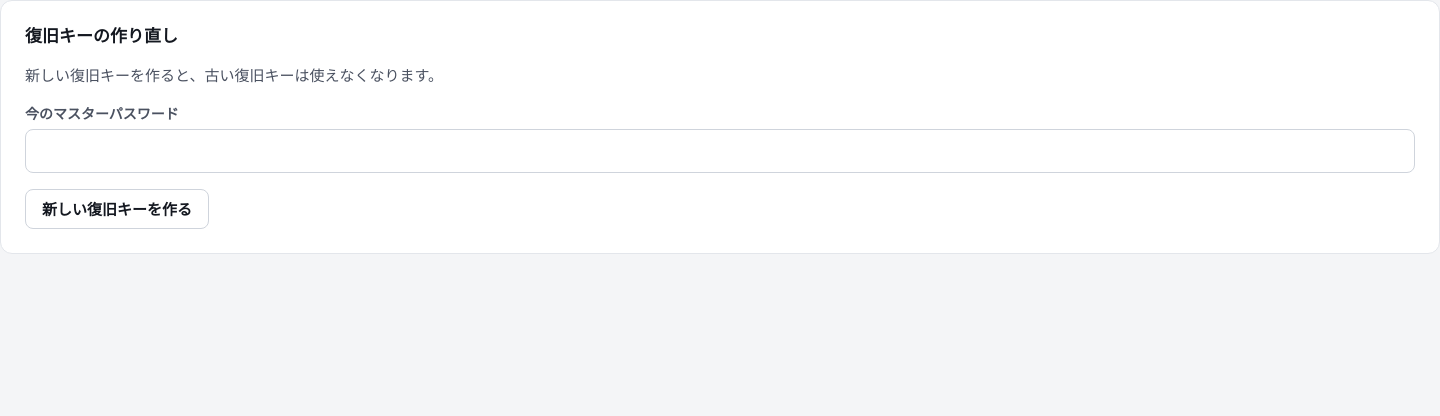
復旧キーの作り直し › 最後の 4 文字が合うまで置き換えず、合えば作り直す
Type "current-pw" into the password field labelled "今のマスターパスワード". click: (720, 152)
box: [25,130,1415,174]
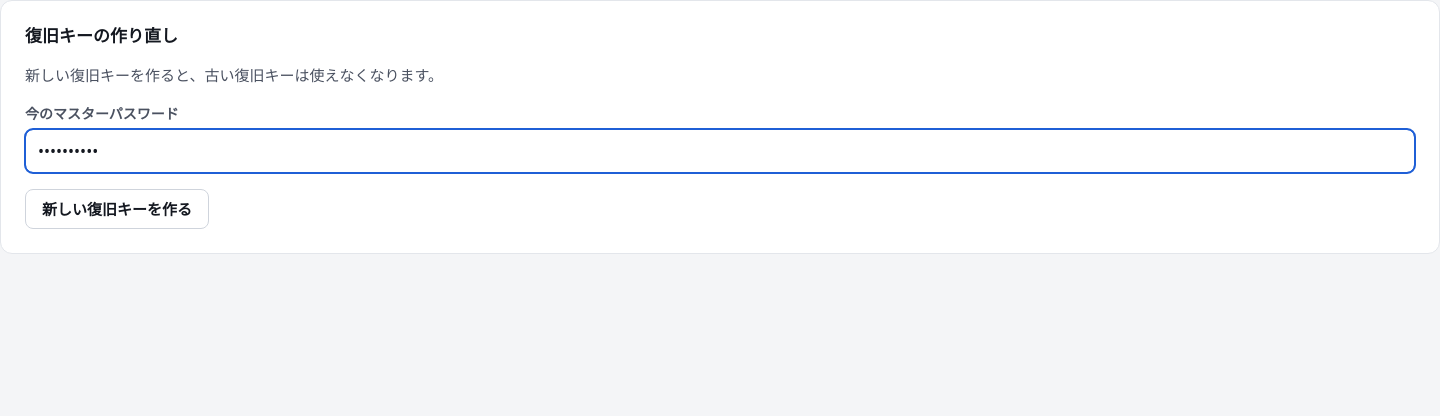
Click the button "新しい復旧キーを作る". click: click(117, 210)
box: [25,190,209,230]
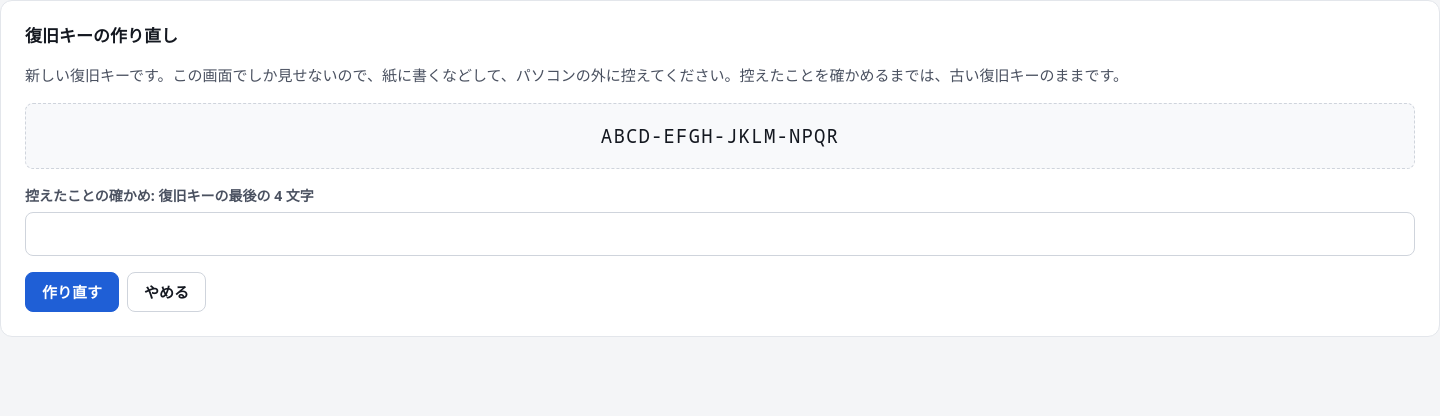
Expected: the text "ABCD-EFGH-JKLM-NPQR" is shown, [25,103,1415,169]
Type "XXXX" into the field labelled "控えたことの確かめ: 復旧キーの最後の 4 文字". click: (720, 234)
box: [25,212,1415,256]
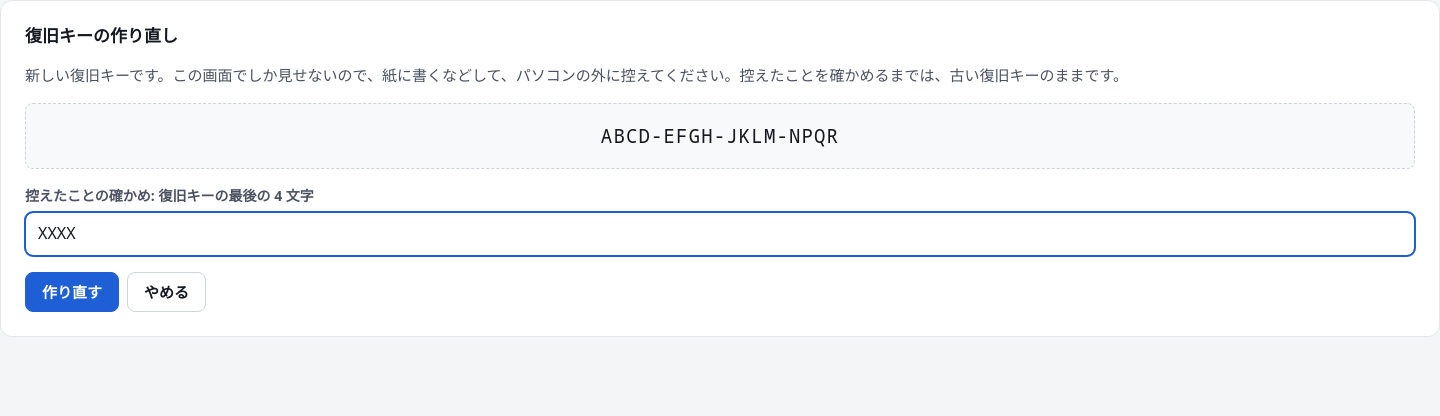
Click the button "作り直す". click: click(72, 292)
box: [25,272,119,312]
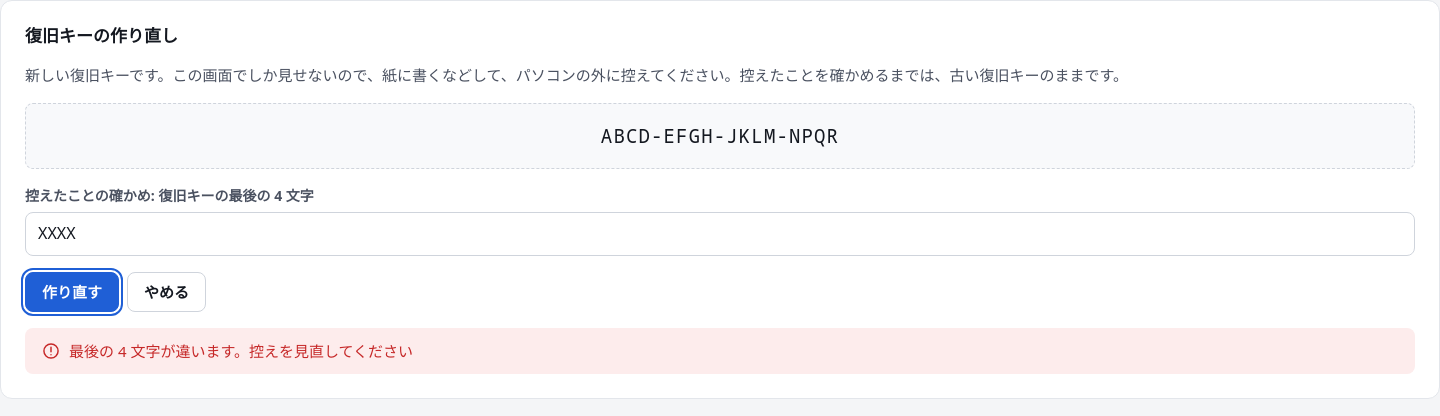
Expected: the message shows "最後の 4 文字が違います", [69,341,413,361]
Replace the text in the field labelled "控えたことの確かめ: 復旧キーの最後の 4 文字" with "npqr". click: (720, 234)
box: [25,212,1415,256]
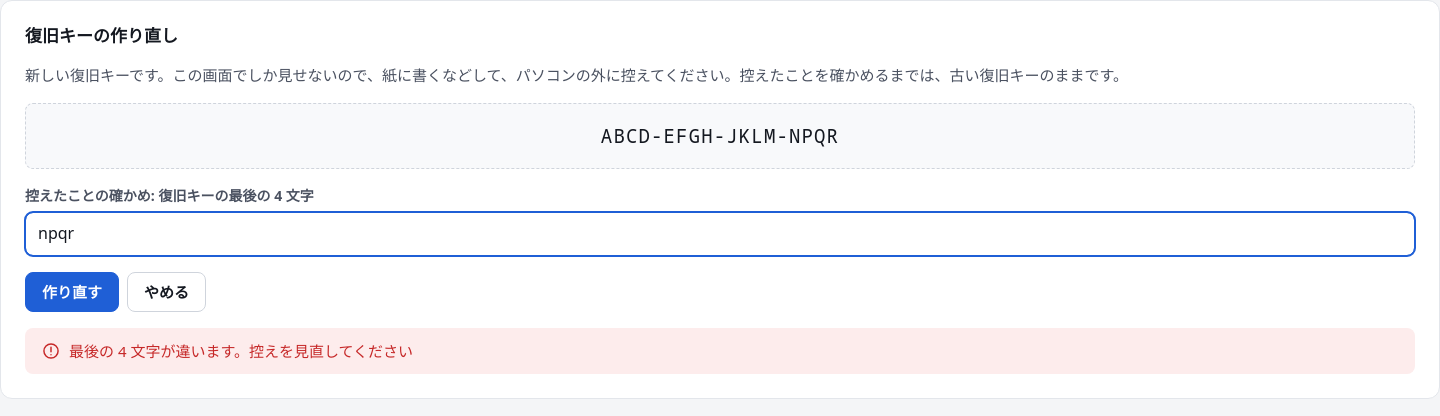
Click the button "作り直す". click: click(72, 292)
box: [25,272,119,312]
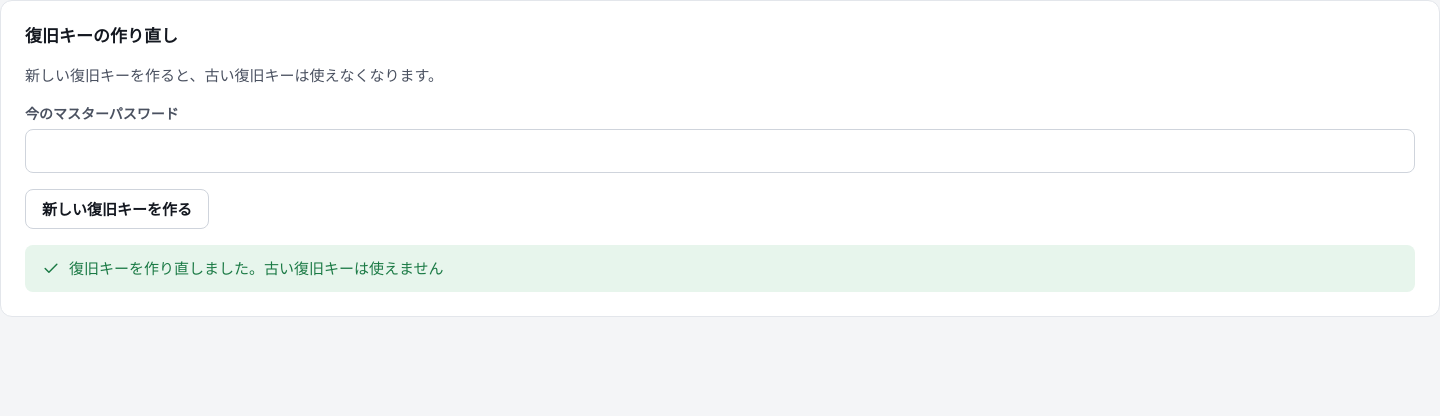
Expected: the message shows "復旧キーを作り直しました", [69,258,444,278]
Expected: the text "ABCD-EFGH-JKLM-NPQR" is gone
